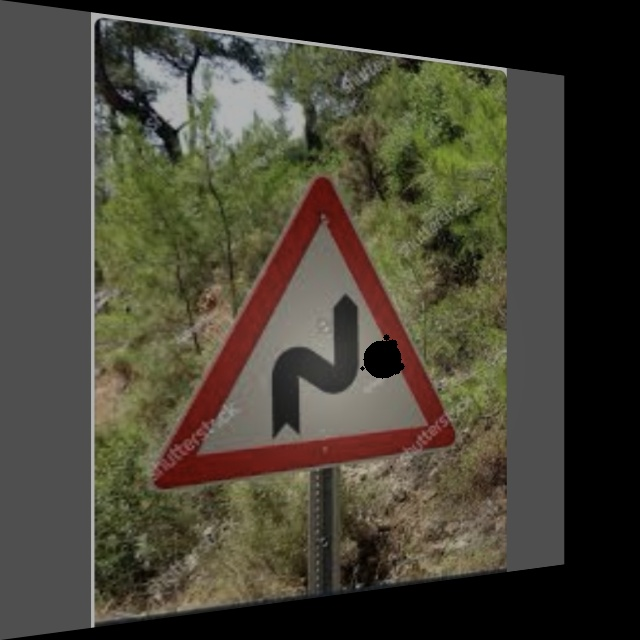Right_Reverse_Bend: (150, 162, 455, 471)
